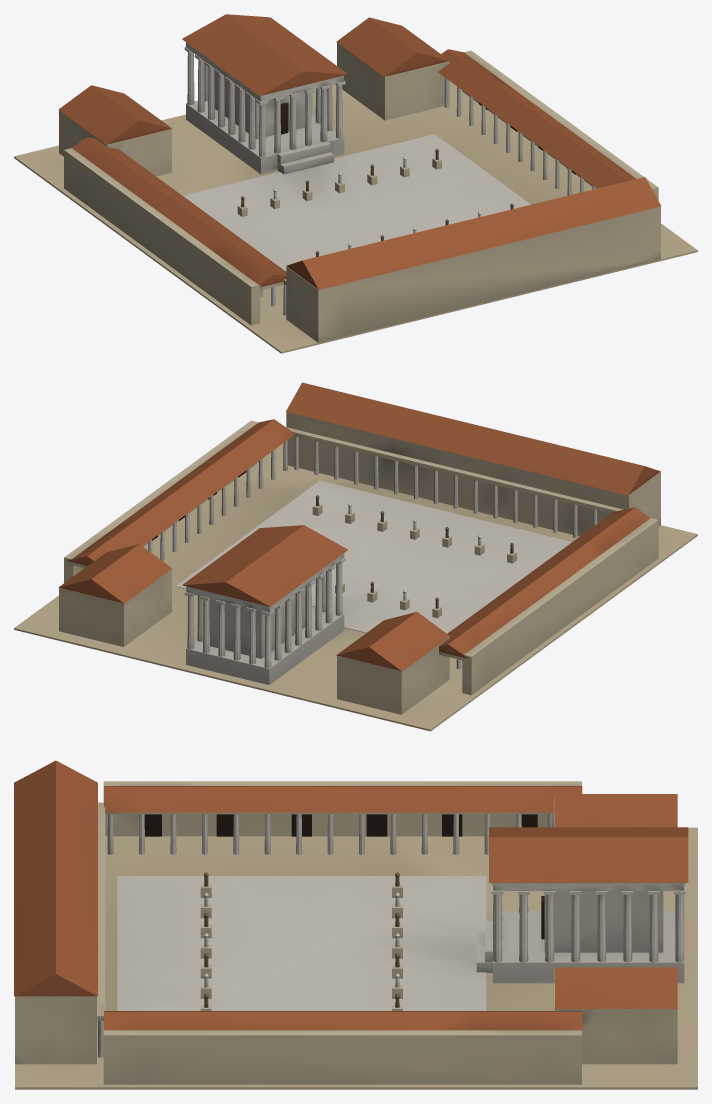
Rendered from roman-forum.glb.
The picture shows the model from 3 angles, top to bottom: view 1: azimuth 30°, elevation 25°; view 2: azimuth 150°, elevation 25°; view 3: azimuth 270°, elevation 25°; orthographic projection. The views are drawn at different scales.
Visible parts, largest first — view 1: p1_porticoes, p0_square, p2_roofs; view 2: p1_porticoes, p0_square, p2_roofs; view 3: p0_square, p1_porticoes, p2_roofs.
Part boxes in pixels (box(x1,y1,x2,y2)): p1_porticoes: box(59, 43, 660, 342); p0_square: box(14, 81, 697, 353); p2_roofs: box(58, 14, 660, 289); p1_porticoes: box(59, 412, 660, 714); p0_square: box(14, 443, 697, 731); p2_roofs: box(58, 382, 660, 671); p0_square: box(15, 827, 697, 1089); p1_porticoes: box(15, 781, 685, 1084); p2_roofs: box(14, 760, 688, 1037).
Size of the model in its own units: 90 by 19.76 by 100.
